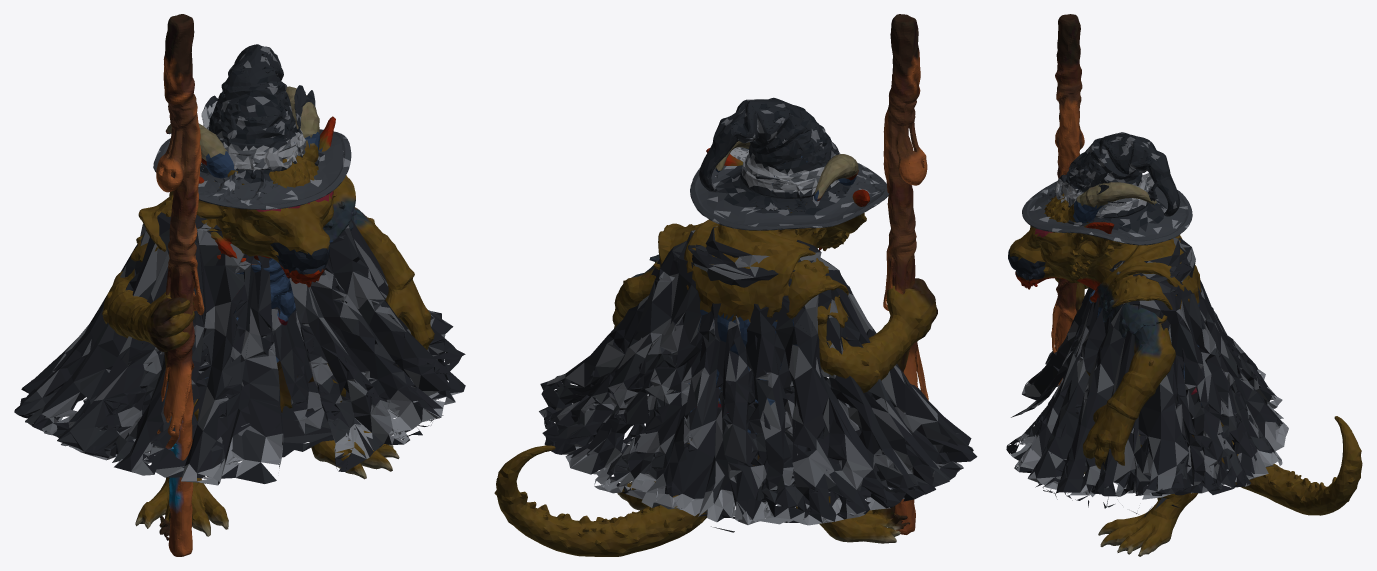
File: kobold_mago.glb
3 renders of one model, left to right at view 1: azimuth 30°, elevation 25°; view 2: azimuth 150°, elevation 25°; view 3: azimuth 270°, elevation 25°, orthographic. The views are drawn at different scales.
Visible parts, largest first — view 1: tmpnn3dodg0.ply, Kobold original, tmpjglm7shh.ply, tmp1s1cn7di.ply; view 2: tmpnn3dodg0.ply, Kobold original, tmpjglm7shh.ply, tmp1s1cn7di.ply; view 3: tmpnn3dodg0.ply, Kobold original, tmpjglm7shh.ply, tmp1s1cn7di.ply.
Boxes of the visible parts, bbox=[...] form: tmpnn3dodg0.ply: bbox=[14, 212, 465, 485]; Kobold original: bbox=[102, 86, 434, 540]; tmpjglm7shh.ply: bbox=[153, 44, 351, 209]; tmp1s1cn7di.ply: bbox=[156, 14, 204, 556]; tmpnn3dodg0.ply: bbox=[539, 226, 977, 532]; Kobold original: bbox=[494, 141, 937, 556]; tmpjglm7shh.ply: bbox=[690, 97, 889, 230]; tmp1s1cn7di.ply: bbox=[883, 14, 928, 534]; tmpnn3dodg0.ply: bbox=[1006, 238, 1288, 517]; Kobold original: bbox=[1008, 169, 1362, 556]; tmpjglm7shh.ply: bbox=[1022, 132, 1192, 245]; tmp1s1cn7di.ply: bbox=[1051, 14, 1084, 385].
Size of the model in its own units: 2.19 by 2.66 by 1.92.
16 materials, 1 textured.
